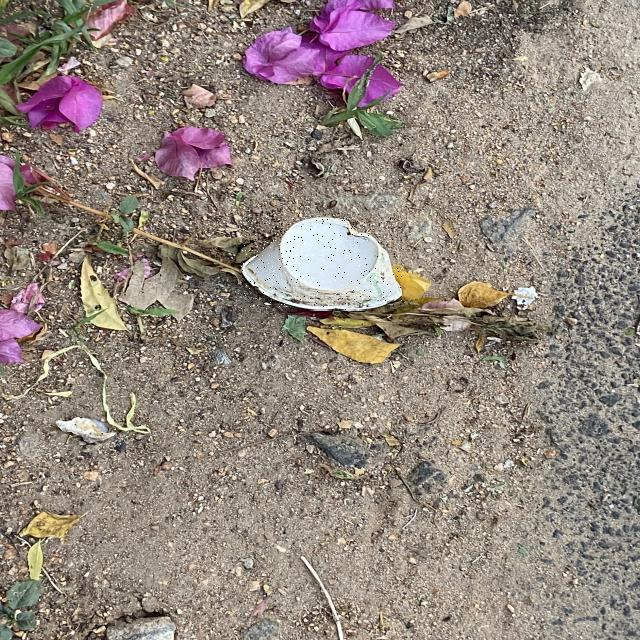paper: (242, 218, 402, 310)
